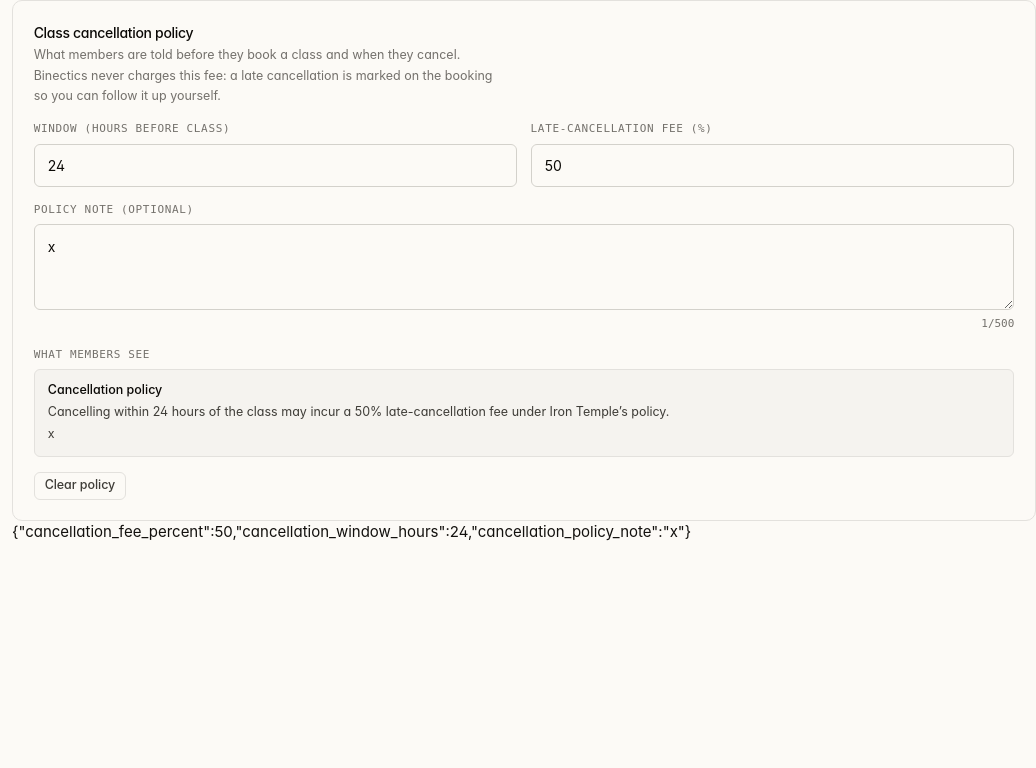
provider settings: the policy editor › caps the fee at 100% and clears the whole policy
Replace the text in the number field labelled "Late-cancellation fee (%)" with "250" at [772, 165], box [531, 144, 1014, 187]
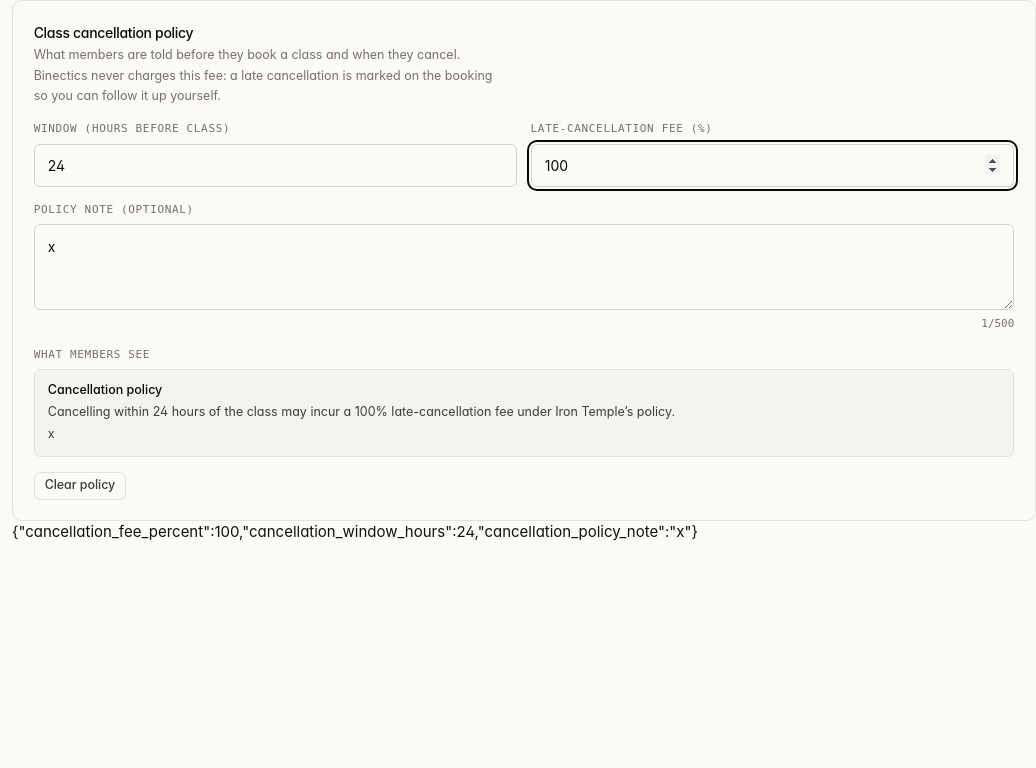
Result: the number field labelled "Late-cancellation fee (%)" holds "100" at [531, 144, 1014, 187]
Click the button "Clear policy" at [80, 486], box [34, 472, 126, 500]
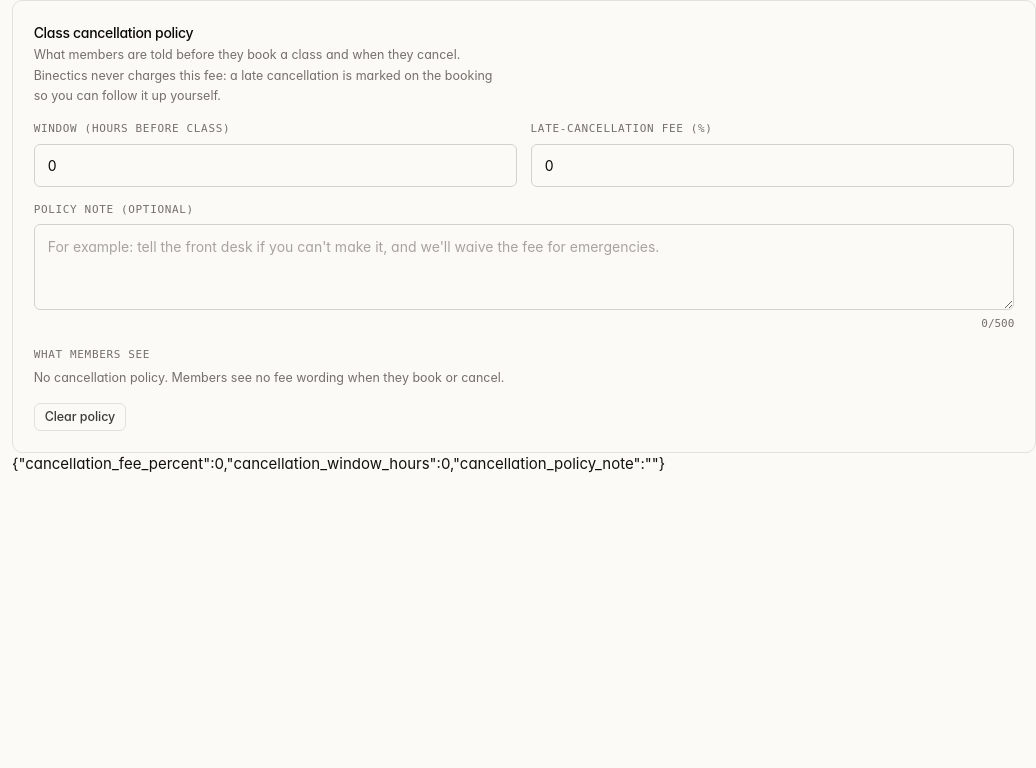
Result: the text with test id "class-cancellation-policy-none" is shown at [34, 370, 504, 385]
